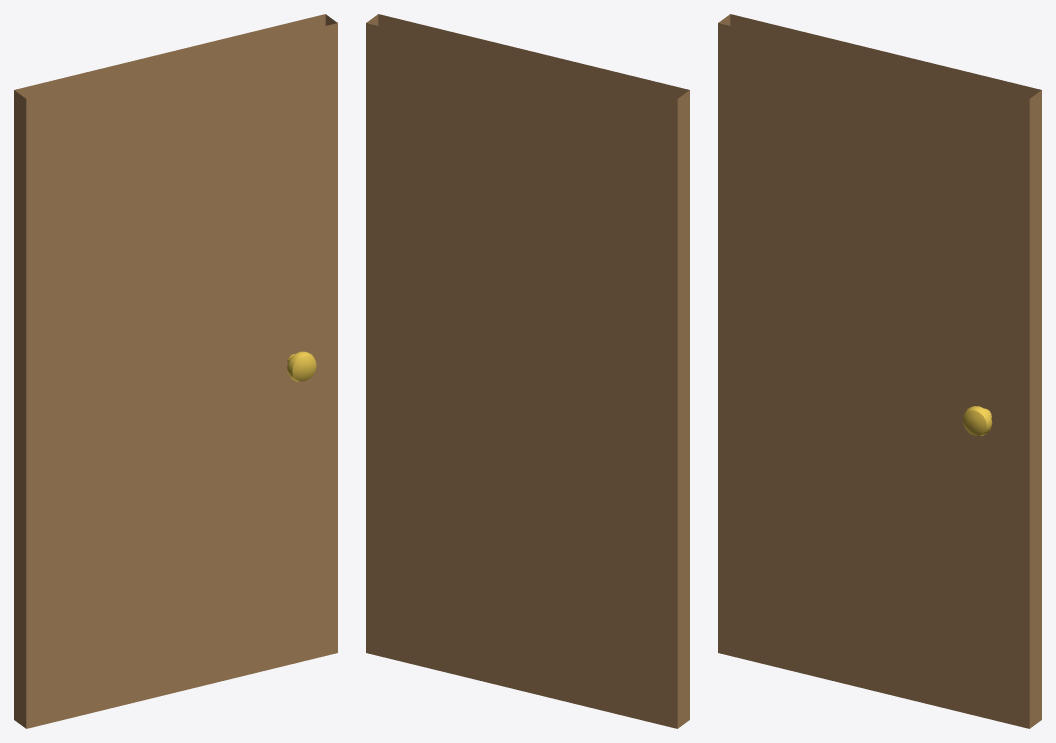
The model's file is SM_Door.FBX.
The picture shows the model from 3 angles, left to right: view 1: azimuth 30°, elevation 25°; view 2: azimuth 150°, elevation 25°; view 3: azimuth 330°, elevation 25°; orthographic projection.
Parts seen in each view (by area): view 1: door001; view 2: door001; view 3: door001.
Boxes of the visible parts, x1,y1,x2,y2 form: door001: (14,14,337,728); door001: (366,14,689,728); door001: (718,14,1041,728).
Size of the model in its own units: 57.74 by 112 by 7.96.
